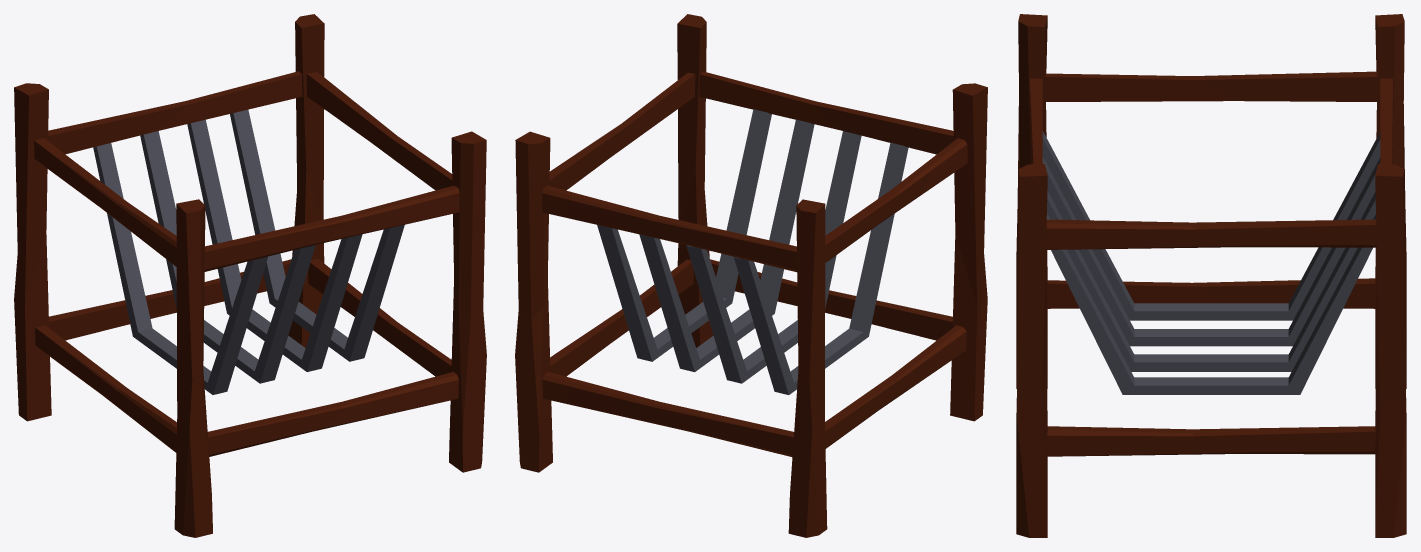
The model's file is Feeder_2.fbx.
3 renders of one model, left to right at view 1: azimuth 30°, elevation 25°; view 2: azimuth 150°, elevation 25°; view 3: azimuth 270°, elevation 25°, orthographic. The views are drawn at different scales.
Parts seen in each view (by area): view 1: Feeder_2; view 2: Feeder_2; view 3: Feeder_2.
Boxes of the visible parts, x1=… form: Feeder_2: x1=14, y1=14, x2=486, y2=537; Feeder_2: x1=515, y1=14, x2=987, y2=537; Feeder_2: x1=1016, y1=14, x2=1406, y2=537.
Size of the model in its own units: 37.44 by 38.74 by 37.89.
